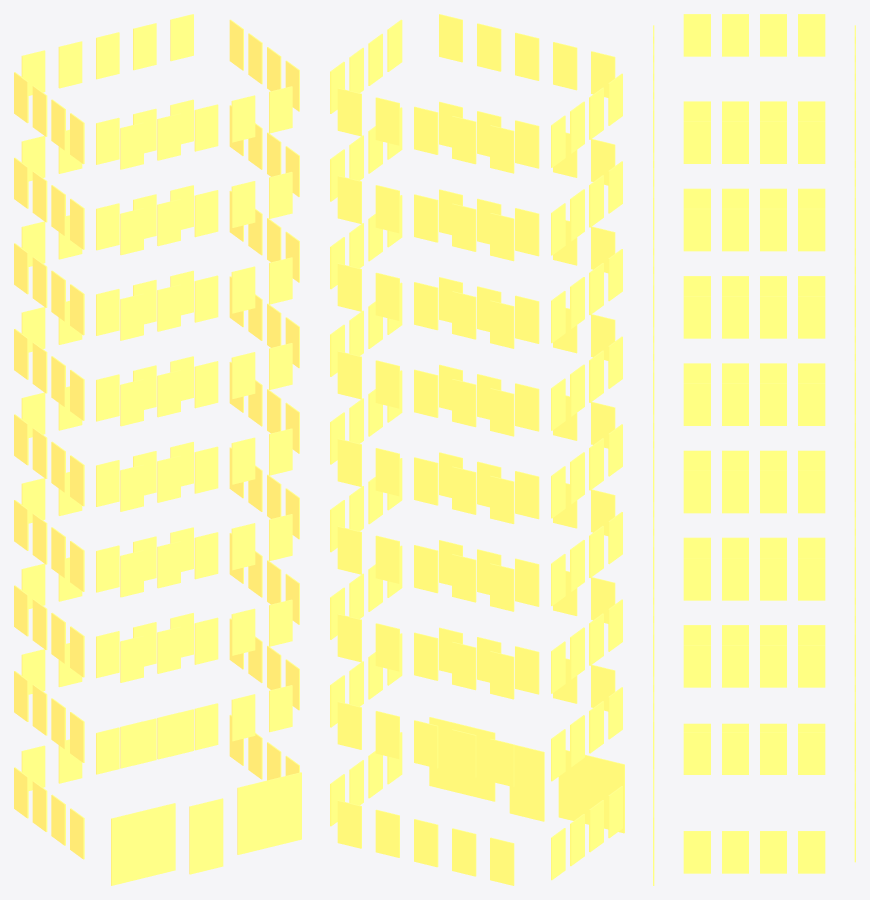
The model's file is Apartment_Tower_Glow.glb.
The picture shows the model from 3 angles, left to right: view 1: azimuth 30°, elevation 25°; view 2: azimuth 150°, elevation 25°; view 3: azimuth 270°, elevation 25°; orthographic projection. The views are drawn at different scales.
Parts seen in each view (by area): view 1: Apartment_Tower_Glow; view 2: Apartment_Tower_Glow; view 3: Apartment_Tower_Glow.
Part boxes in pixels (x1,y1,x2,y2): Apartment_Tower_Glow: (14,14,301,885); Apartment_Tower_Glow: (330,14,624,885); Apartment_Tower_Glow: (653,14,855,885).
Bounding box in the file's own units: 29.16 × 98.1 × 23.16.
